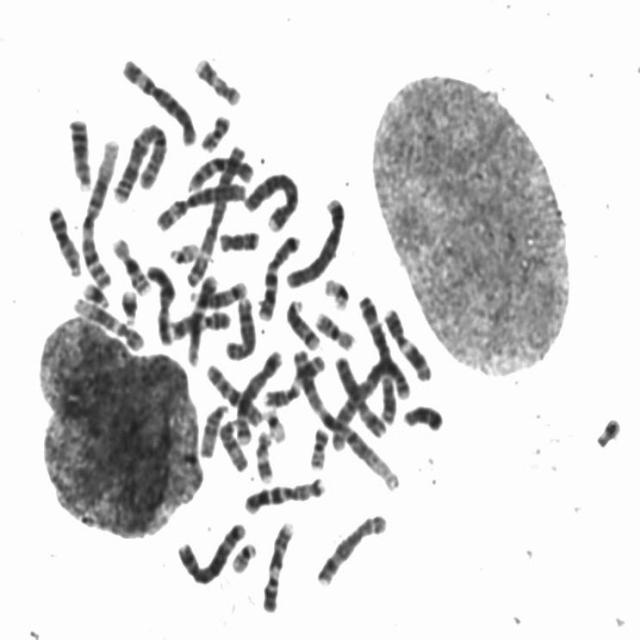A1: (288, 341, 402, 493), (78, 134, 122, 292)
A2: (328, 352, 414, 452), (109, 118, 170, 205)
A3: (183, 140, 249, 289), (356, 289, 399, 426)
B4: (283, 190, 348, 290), (240, 166, 300, 233)
B5: (233, 346, 285, 446), (172, 518, 247, 587)
C10: (202, 359, 264, 428), (183, 150, 255, 192)
C11: (379, 303, 434, 383), (260, 348, 329, 408)
C12: (69, 292, 146, 352), (183, 268, 220, 368)
C6: (117, 51, 198, 148), (151, 178, 248, 233)
C7: (254, 230, 302, 322), (240, 472, 328, 514)
C8: (314, 508, 389, 588), (222, 292, 258, 362)
C9: (260, 516, 296, 614), (164, 304, 234, 343)
D13: (44, 200, 83, 278), (64, 112, 94, 192)
D14: (282, 294, 322, 352), (187, 276, 249, 308)
D15: (215, 412, 251, 474), (196, 399, 231, 459)
E16: (109, 232, 154, 296), (311, 306, 357, 352)
E17: (190, 52, 243, 108), (252, 425, 276, 484)
E18: (399, 399, 445, 433), (215, 225, 261, 254)
F19: (321, 272, 352, 312), (261, 403, 289, 444)
F20: (197, 109, 233, 152), (306, 422, 331, 472)
G21: (117, 284, 141, 328), (79, 277, 111, 309)
G22: (228, 537, 258, 575), (165, 236, 201, 265)
X: (331, 351, 388, 441), (143, 259, 177, 347)
Y: (399, 399, 445, 433)
